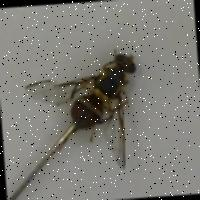Oriental-fruit-fly: (9, 31, 160, 174)
